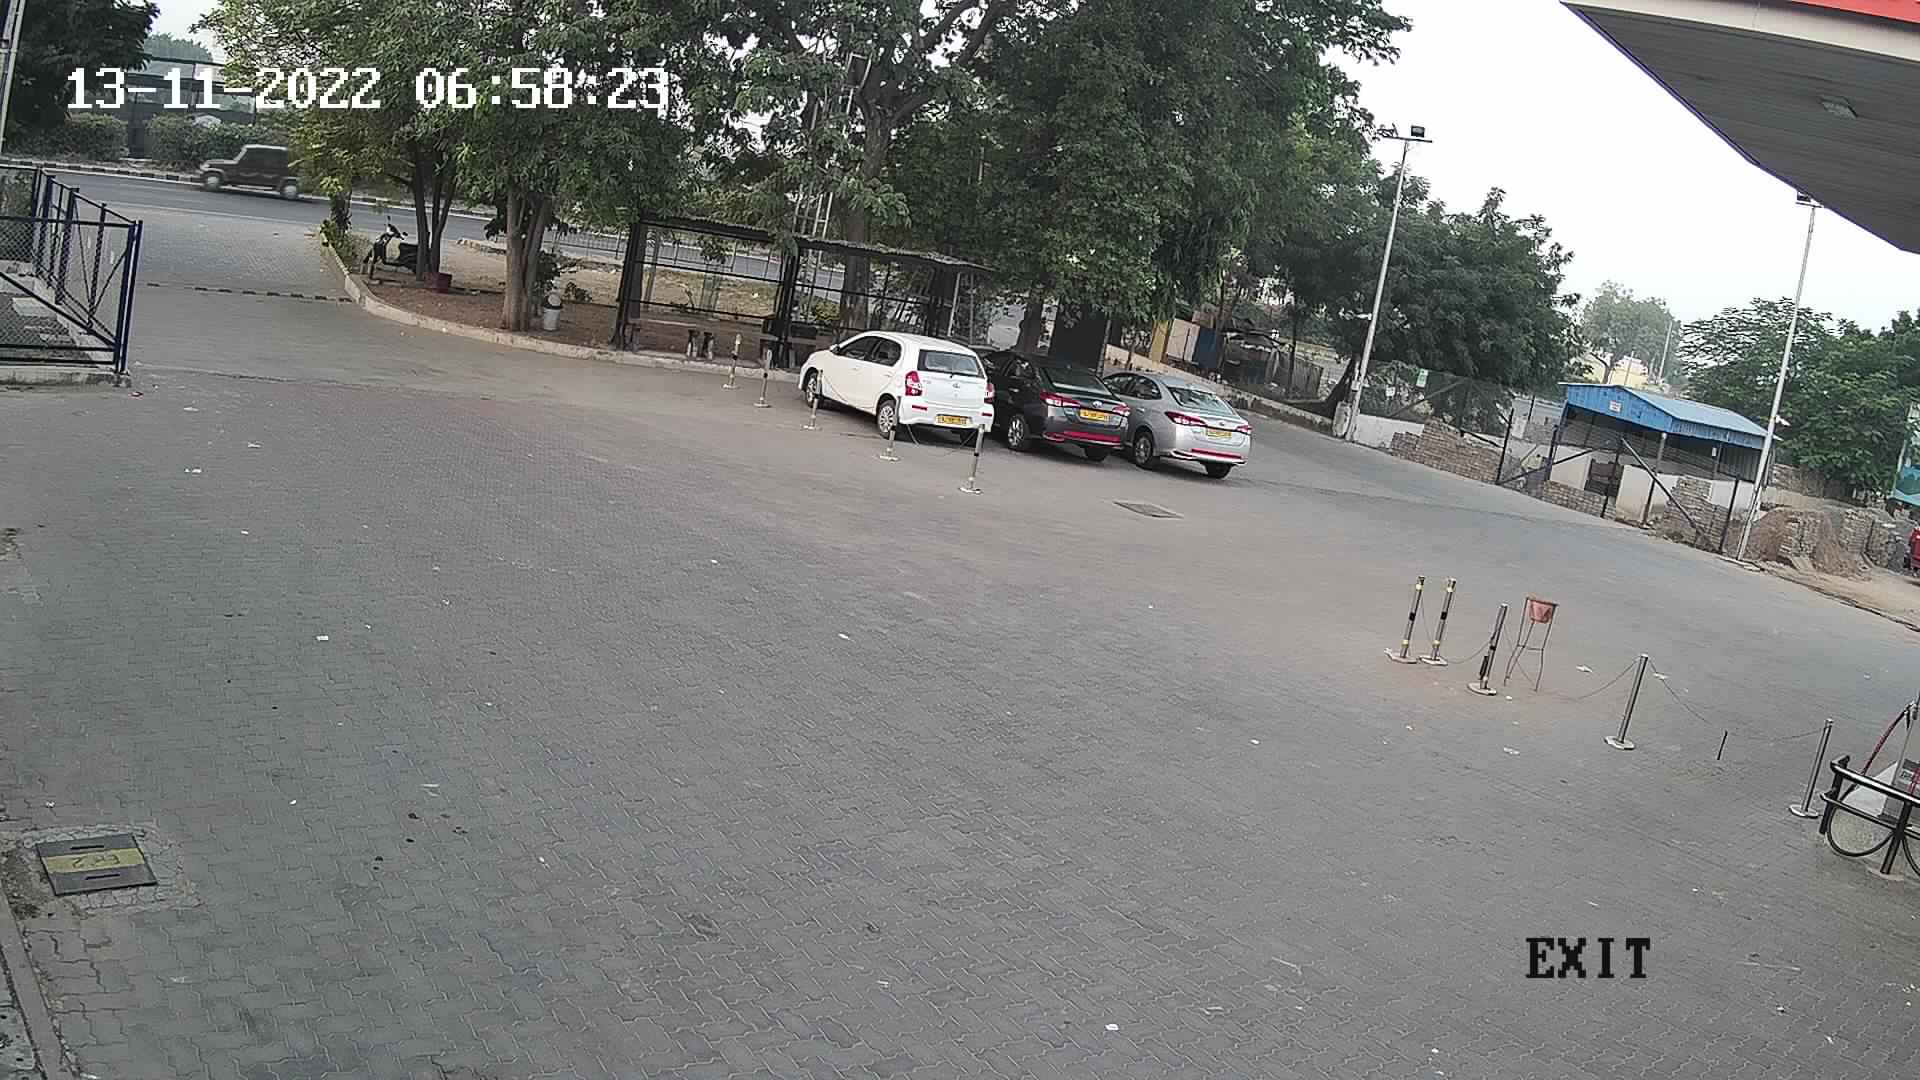Bike: (356, 204, 427, 281)
Car: (791, 318, 1000, 450), (965, 334, 1135, 467), (1092, 361, 1257, 485), (185, 132, 326, 203)
